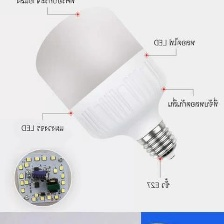light_bulb: (30, 2, 179, 165)
